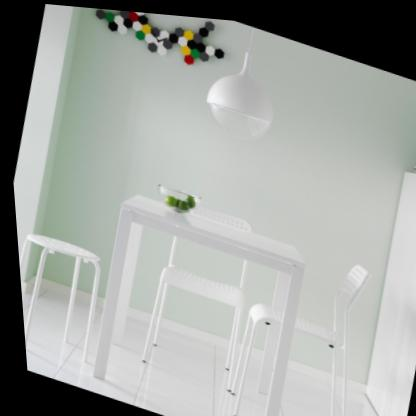Chair: (208, 223, 388, 416)
Table: (70, 178, 321, 416)
